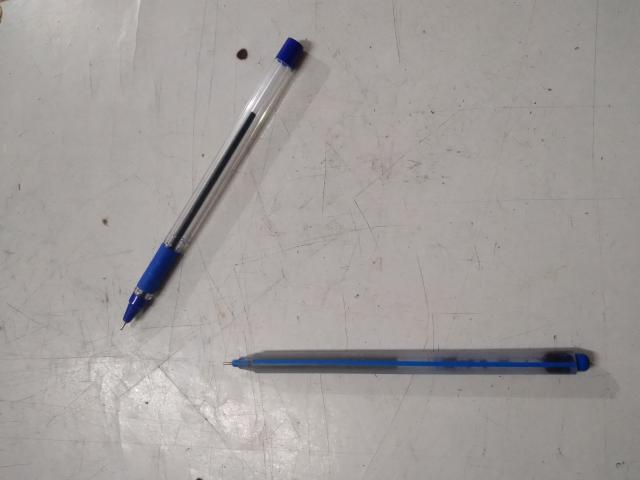PEN: (146, 108, 452, 311), (67, 217, 145, 480)
